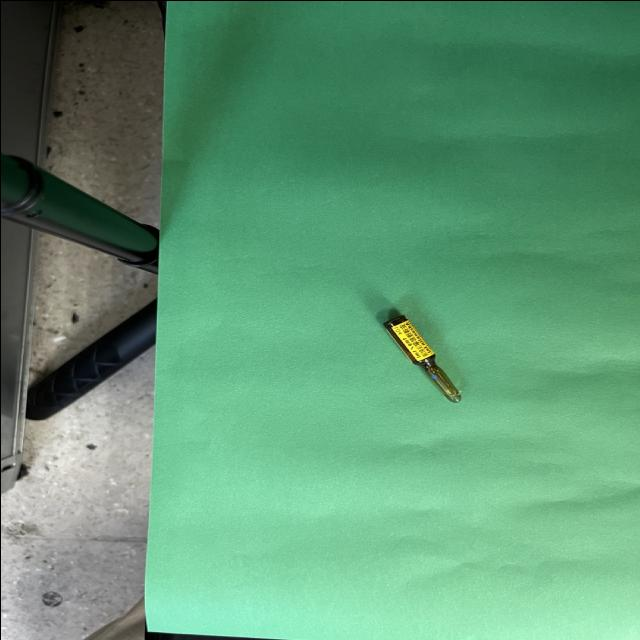Ampoules: (382, 315, 459, 402)
